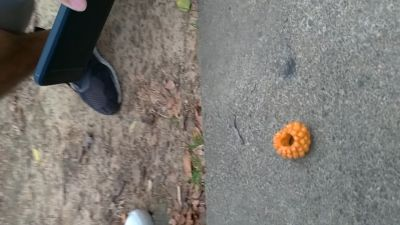eggs: (271, 119, 313, 163)
